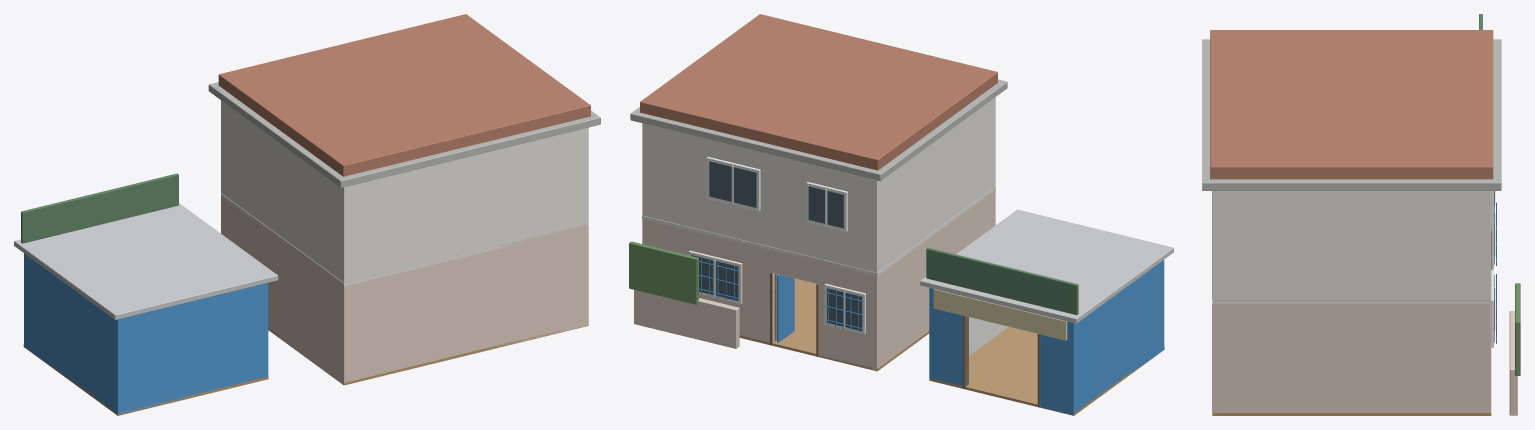
Rendered from Sultanbeyli_House66South_Hafsa.fbx.
3 views of the same model, side by side, from view 1: azimuth 30°, elevation 25°; view 2: azimuth 150°, elevation 25°; view 3: azimuth 270°, elevation 25° (orthographic). The views are drawn at different scales.
Visible parts, largest first — view 1: Sultanbeyli_House66South_Hafsa; view 2: Sultanbeyli_House66South_Hafsa; view 3: Sultanbeyli_House66South_Hafsa.
Boxes of the visible parts, <box> form: Sultanbeyli_House66South_Hafsa: <box>14,14,600,415</box>; Sultanbeyli_House66South_Hafsa: <box>629,14,1173,415</box>; Sultanbeyli_House66South_Hafsa: <box>1202,14,1520,415</box>.
Bounding box in the file's own units: 14.65 × 6.77 × 7.77.
